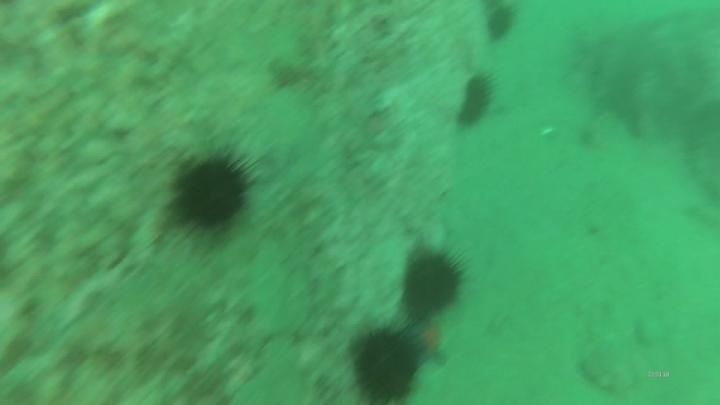echinus: (165, 147, 259, 239), (345, 321, 427, 404), (397, 242, 472, 322), (452, 71, 498, 132), (480, 4, 520, 46)
starfish: (404, 313, 454, 369)
